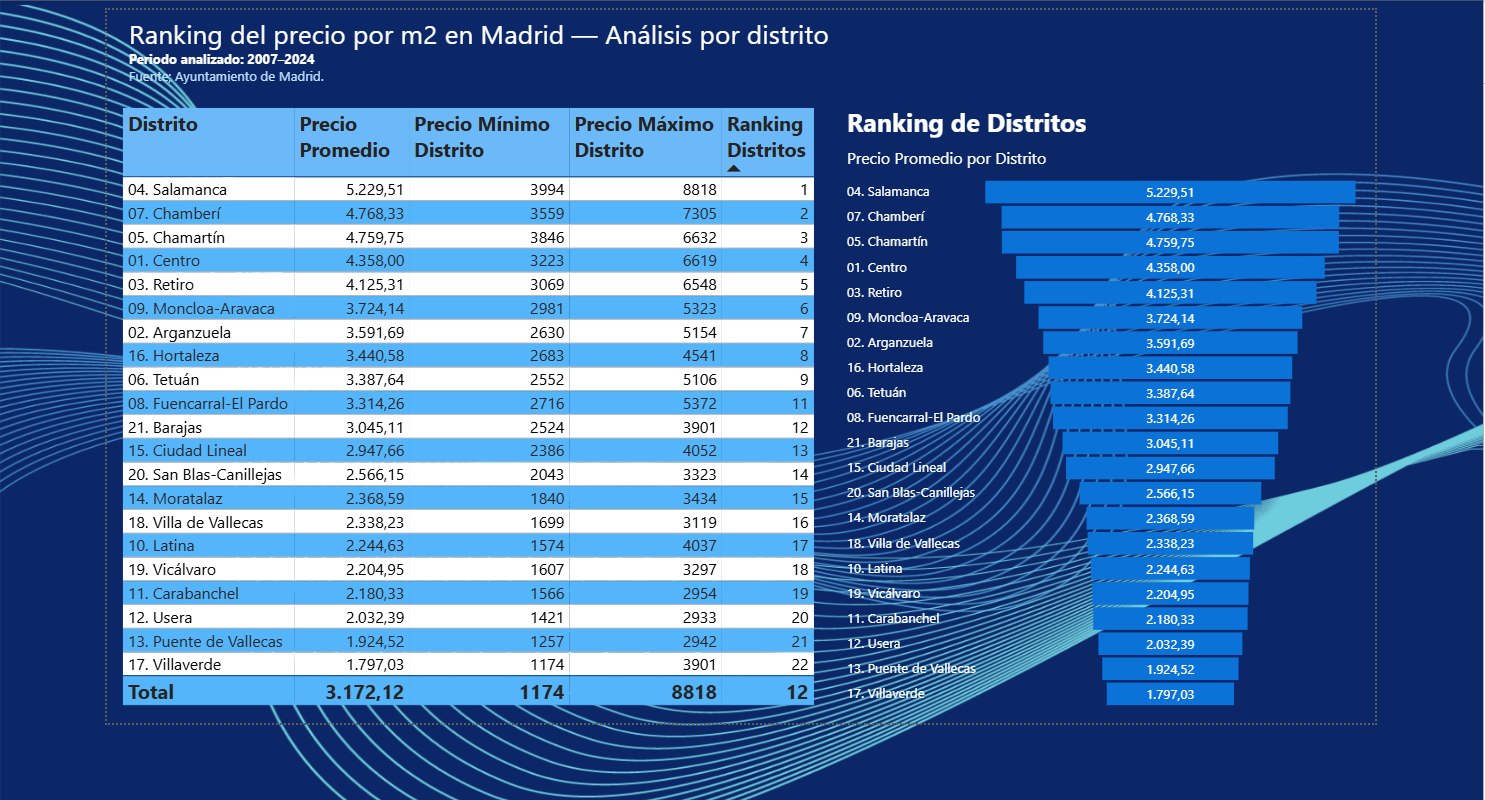

What the dashboard file says about the page in this screenshot:
{"tool":"powerbi","page":{"name":"Ranking Distritos","canvas":[1280,720],"ordinal":0},"visuals":[{"type":"textbox","box":[17.2,0,1254.5,83.8],"z":0},{"type":"tableEx","fields":{"Values":["DimDistrito.Distrito","FactPrecios.Precio Promedio","FactPrecios.Precio Mínimo Distrito","FactPrecios.Precio Máximo Distrito","FactPrecios.Ranking Distritos"]},"box":[10,93.8,720,626.2],"z":1000},{"type":"funnel","title":"Ranking de Distritos","fields":{"Category":["DimDistrito.Distrito"],"Y":["FactPrecios.Precio Promedio"]},"box":[742.5,96.2,528.8,613.8],"z":2000}]}

Visuals, with their boxes on the page's 1280x720 design canvas (x1, y1, x2, y2). These are canvas units, not pixel positions in the 1485x800 screenshot, which may show the page scaled, cropped or inside an application window:
textbox: select_region(17, 0, 1272, 84)
tableEx - DimDistrito.Distrito x FactPrecios.Precio Promedio: select_region(10, 94, 730, 720)
"Ranking de Distritos" funnel: select_region(742, 96, 1271, 710)
